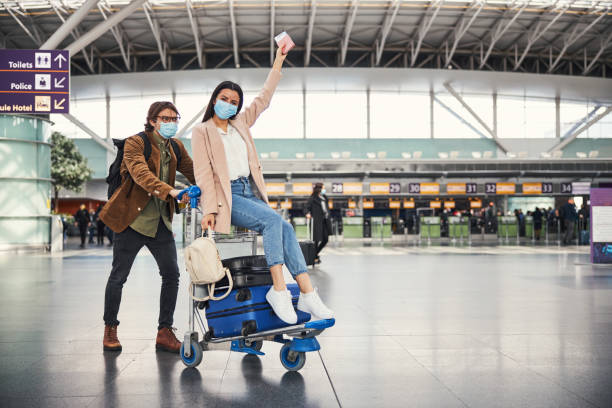with mask: (150, 100, 180, 139), (211, 82, 241, 121)
